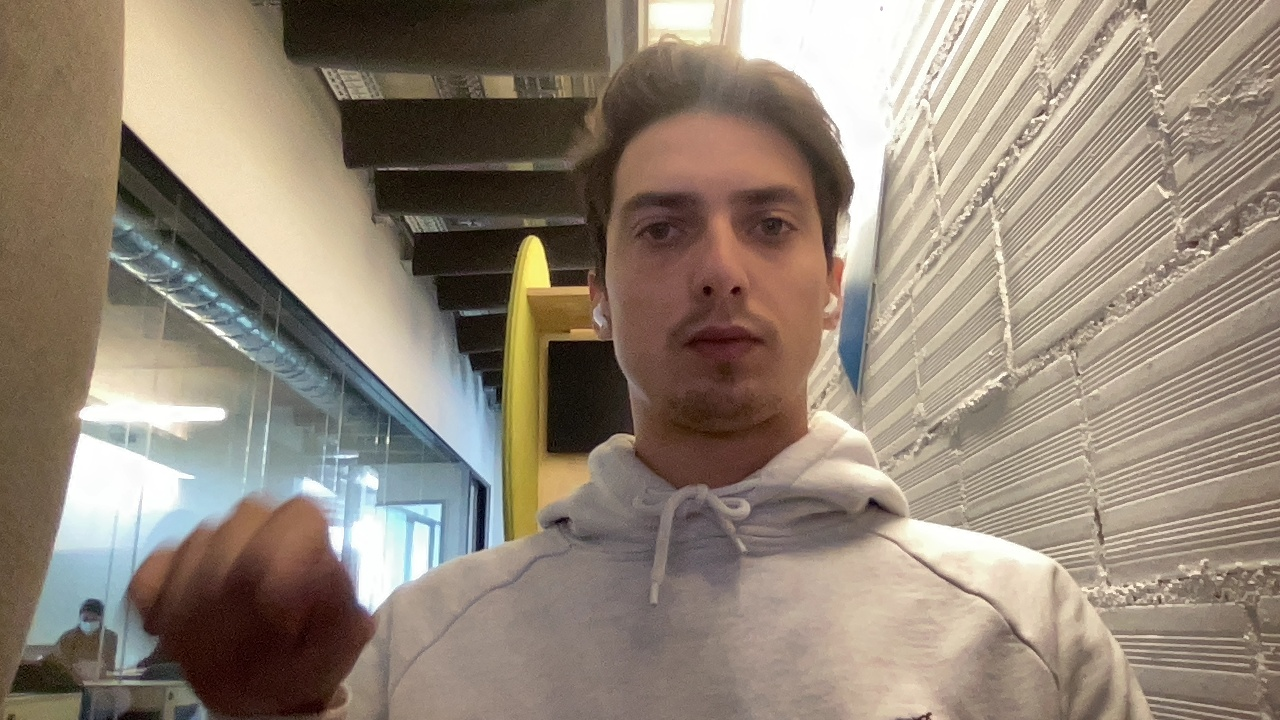yes: (102, 494, 383, 708)
